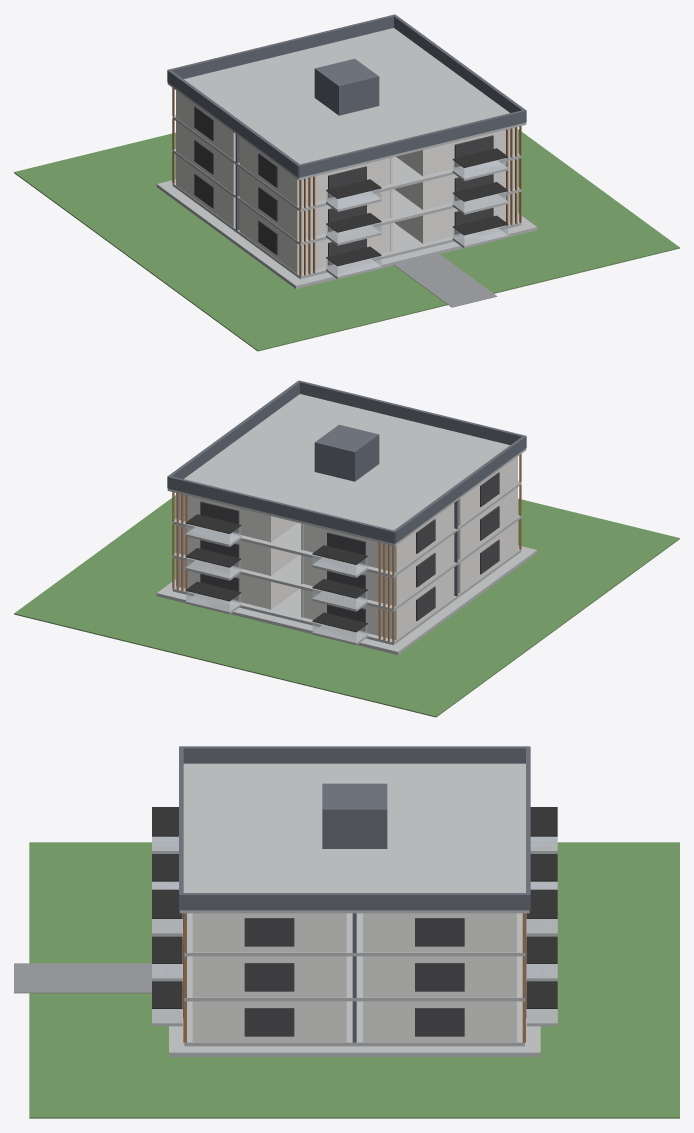
File: three_floor_building.glb
3 renders of one model, top to bottom at view 1: azimuth 30°, elevation 25°; view 2: azimuth 150°, elevation 25°; view 3: azimuth 270°, elevation 25°, orthographic. The views are drawn at different scales.
Visible parts, largest first — view 1: Site_Ground_Lawn, Roof_Slab, Building_Plinth, Roof_Parapet_S, Roof_Parapet_N, Roof_Machine_Room, Entrance_Pathway, Apartment_203, Apartment_103, Apartment_303, Roof_Parapet_W, Roof_Parapet_E (+29 smaller); view 2: Site_Ground_Lawn, Roof_Slab, Building_Plinth, Roof_Parapet_N, Roof_Parapet_S, Roof_Machine_Room, Apartment_202, Apartment_102, Apartment_302, Roof_Parapet_W, Roof_Parapet_E, Floor_1_Slab (+28 smaller); view 3: Site_Ground_Lawn, Roof_Slab, Roof_Parapet_E, Roof_Parapet_W, Apartment_204, Apartment_104, Apartment_101, Apartment_201, Building_Plinth, Apartment_304, Apartment_301, Roof_Machine_Room (+28 smaller).
Part boxes in pixels (box(x1,y1,x2,y2)): Site_Ground_Lawn: box(14, 129, 679, 351); Roof_Slab: box(167, 28, 526, 180); Building_Plinth: box(156, 179, 537, 288); Roof_Parapet_S: box(298, 110, 526, 177); Roof_Parapet_N: box(168, 14, 395, 78); Roof_Machine_Room: box(314, 58, 379, 115); Entrance_Pathway: box(394, 254, 497, 307); Apartment_203: box(239, 168, 390, 240); Apartment_103: box(239, 201, 390, 274); Apartment_303: box(239, 137, 390, 206); Roof_Parapet_W: box(167, 70, 299, 177); Roof_Parapet_E: box(393, 14, 526, 121); Site_Ground_Lawn: box(14, 495, 679, 717); Roof_Slab: box(167, 394, 526, 546); Building_Plinth: box(156, 545, 537, 654); Roof_Parapet_N: box(167, 476, 394, 543); Roof_Parapet_S: box(299, 380, 525, 444); Roof_Machine_Room: box(314, 424, 379, 481); Apartment_202: box(303, 534, 454, 606); Apartment_102: box(303, 567, 454, 640); Apartment_302: box(303, 503, 454, 572); Roof_Parapet_W: box(393, 436, 526, 543); Roof_Parapet_E: box(167, 380, 300, 487); Floor_1_Slab: box(172, 548, 521, 645); Site_Ground_Lawn: box(29, 842, 679, 1118); Roof_Slab: box(179, 763, 529, 913); Roof_Parapet_E: box(179, 893, 529, 910); Roof_Parapet_W: box(180, 746, 529, 763); Apartment_204: box(192, 956, 346, 997); Apartment_104: box(192, 1001, 346, 1042); Apartment_101: box(363, 1001, 516, 1042); Apartment_201: box(363, 956, 516, 997); Building_Plinth: box(169, 913, 540, 1056); Apartment_304: box(192, 913, 346, 952); Apartment_301: box(363, 913, 516, 952); Roof_Machine_Room: box(322, 783, 387, 848).
Bounding box in the file's own units: 42 × 13.15 × 43.
